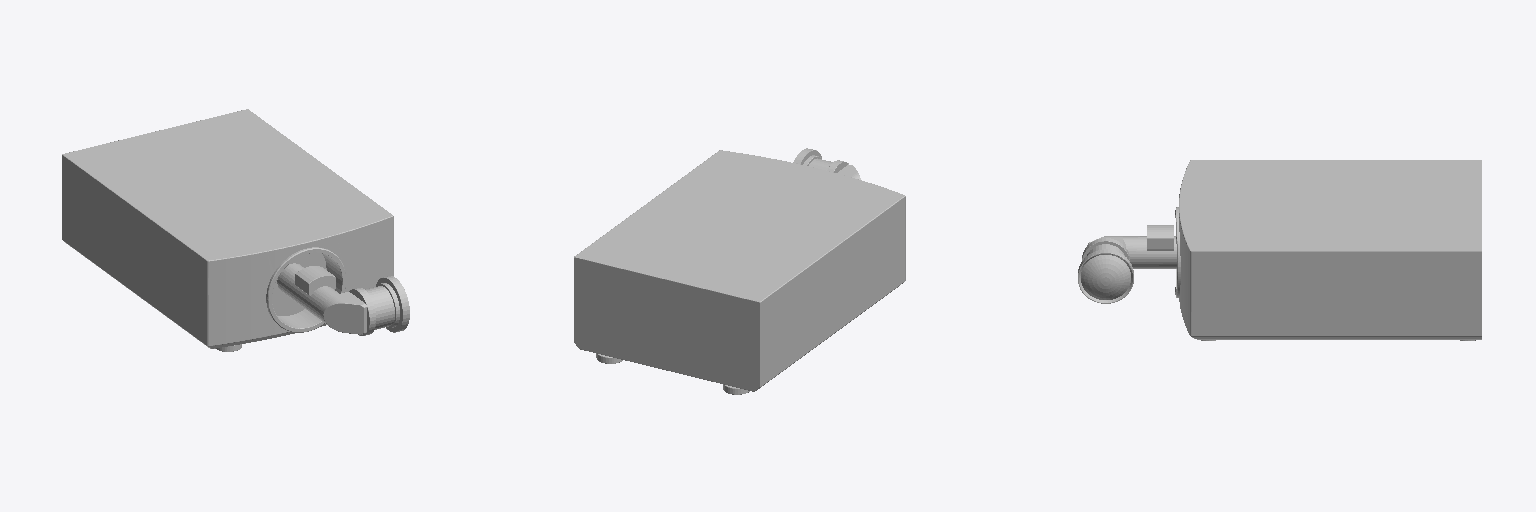
Rendered from 02_Large Venue_H8_UST.obj.
The picture shows the model from 3 angles: view 1: azimuth 30°, elevation 25°; view 2: azimuth 150°, elevation 25°; view 3: azimuth 270°, elevation 25°; orthographic projection.
Visible parts, largest first — view 1: 1, 2; view 2: 1, 2; view 3: 1, 2.
Part boxes in pixels (bbox=[...]): 1: bbox=[62, 109, 393, 351]; 2: bbox=[277, 263, 409, 335]; 1: bbox=[574, 150, 905, 394]; 2: bbox=[793, 148, 860, 179]; 1: bbox=[1175, 160, 1481, 340]; 2: bbox=[1078, 225, 1176, 303].
Bounding box in the file's own units: 530 × 274 × 996.